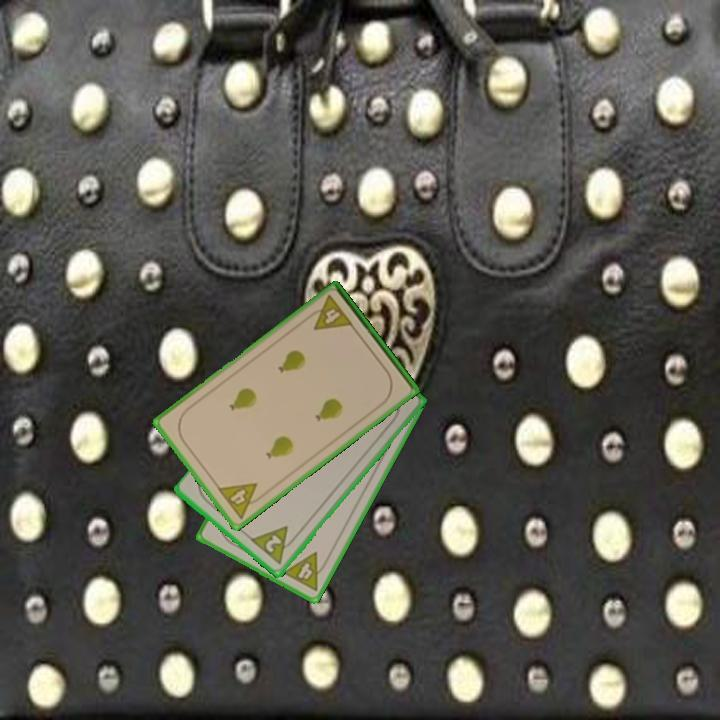2p: (248, 522, 301, 568)
4p: (279, 549, 332, 594), (214, 479, 268, 522), (303, 292, 356, 334)
